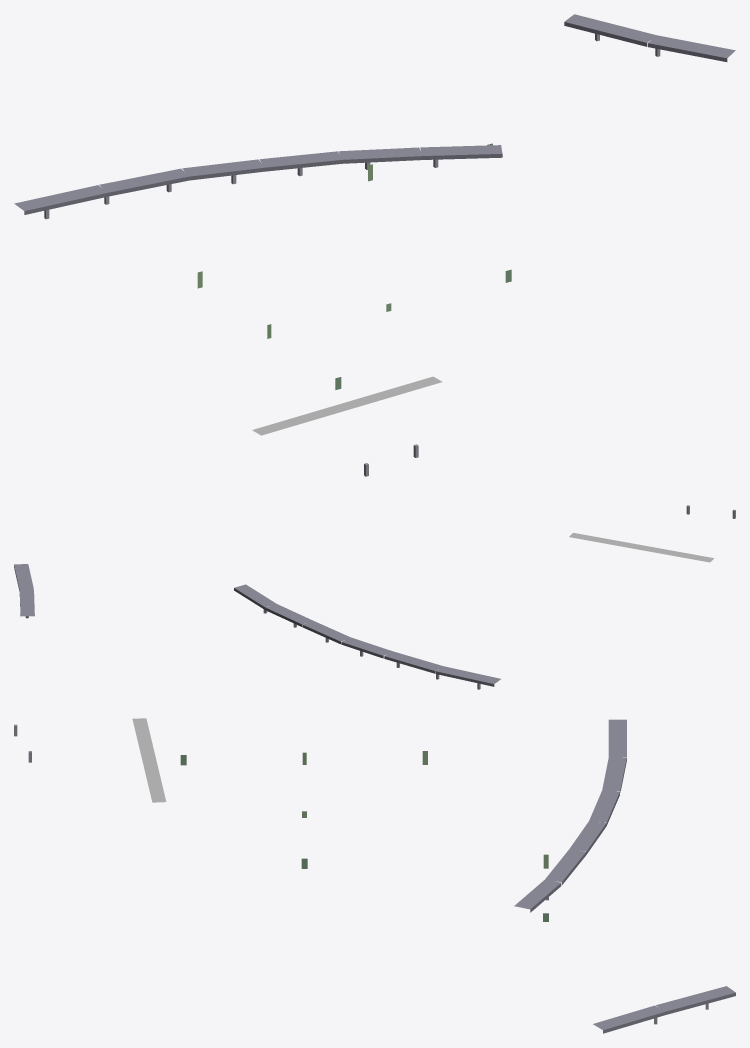
3 views of the same model, one above another, from view 1: azimuth 30°, elevation 25°; view 2: azimuth 150°, elevation 25°; view 3: azimuth 270°, elevation 25° (orthographic). The views are drawn at different scales.
Bounding box in the file's own units: 374 × 12.19 × 359.
